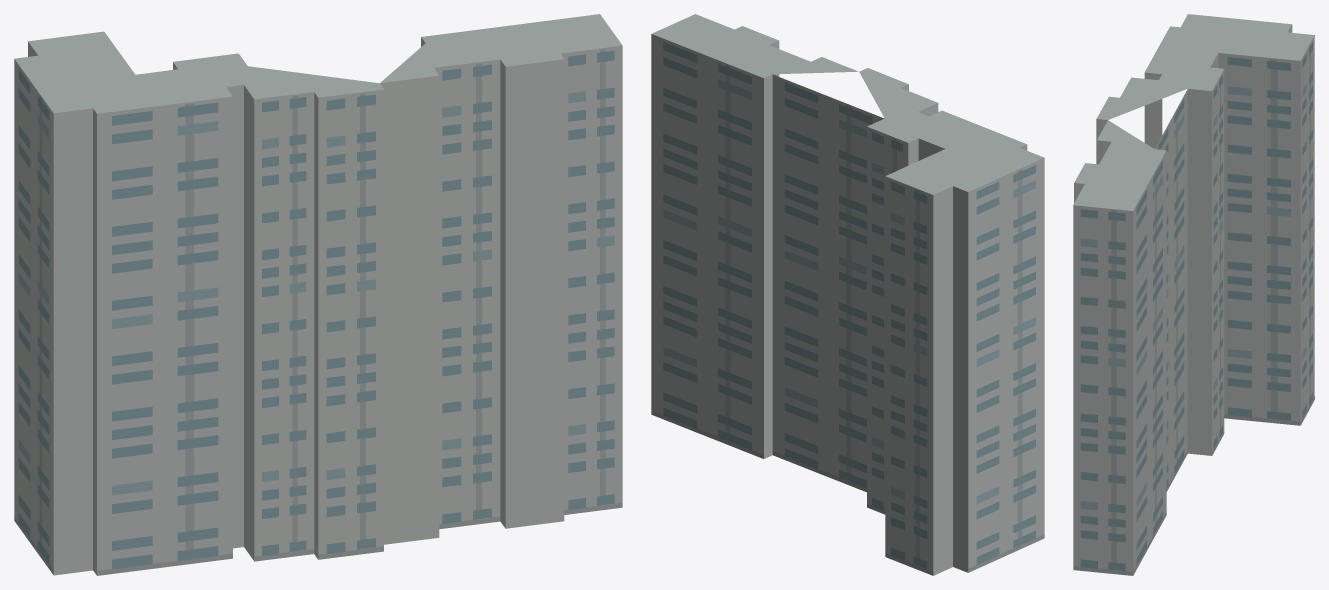
The model's file is residential-ee910e97-66ee-4f4e-ae0f-3527f31cc8d3.glb.
3 renders of one model, left to right at view 1: azimuth 30°, elevation 25°; view 2: azimuth 150°, elevation 25°; view 3: azimuth 270°, elevation 25°, orthographic. The views are drawn at different scales.
Parts seen in each view (by area): view 1: residential-ee910e97-66ee-4f4e-ae0f-3527f31cc8d3.tmp; view 2: residential-ee910e97-66ee-4f4e-ae0f-3527f31cc8d3.tmp; view 3: residential-ee910e97-66ee-4f4e-ae0f-3527f31cc8d3.tmp.
Boxes of the visible parts, x1=… form: residential-ee910e97-66ee-4f4e-ae0f-3527f31cc8d3.tmp: x1=14, y1=14, x2=622, y2=575; residential-ee910e97-66ee-4f4e-ae0f-3527f31cc8d3.tmp: x1=651, y1=14, x2=1044, y2=575; residential-ee910e97-66ee-4f4e-ae0f-3527f31cc8d3.tmp: x1=1073, y1=14, x2=1314, y2=575.
Size of the model in its own units: 78.8 by 68 by 40.82.
